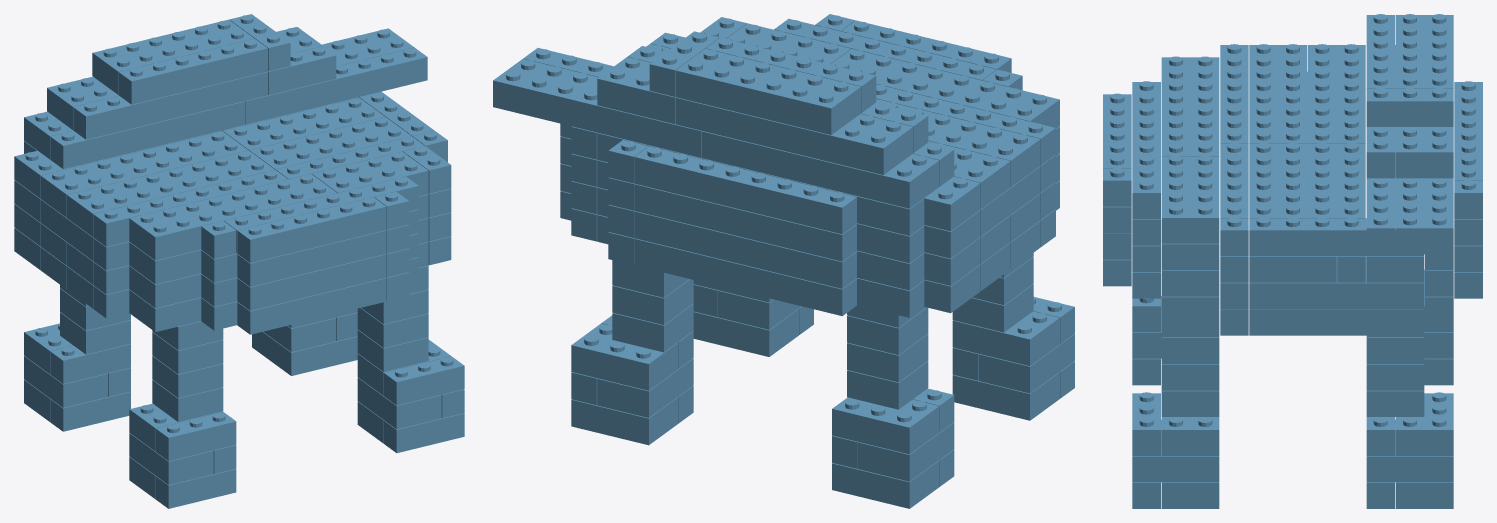
File: 018_bed_L3.glb
3 renders of one model, left to right at view 1: azimuth 30°, elevation 25°; view 2: azimuth 150°, elevation 25°; view 3: azimuth 270°, elevation 25°, orthographic. The views are drawn at different scales.
Bounding box in the file's own units: 16.98 × 14.13 × 12.98.
